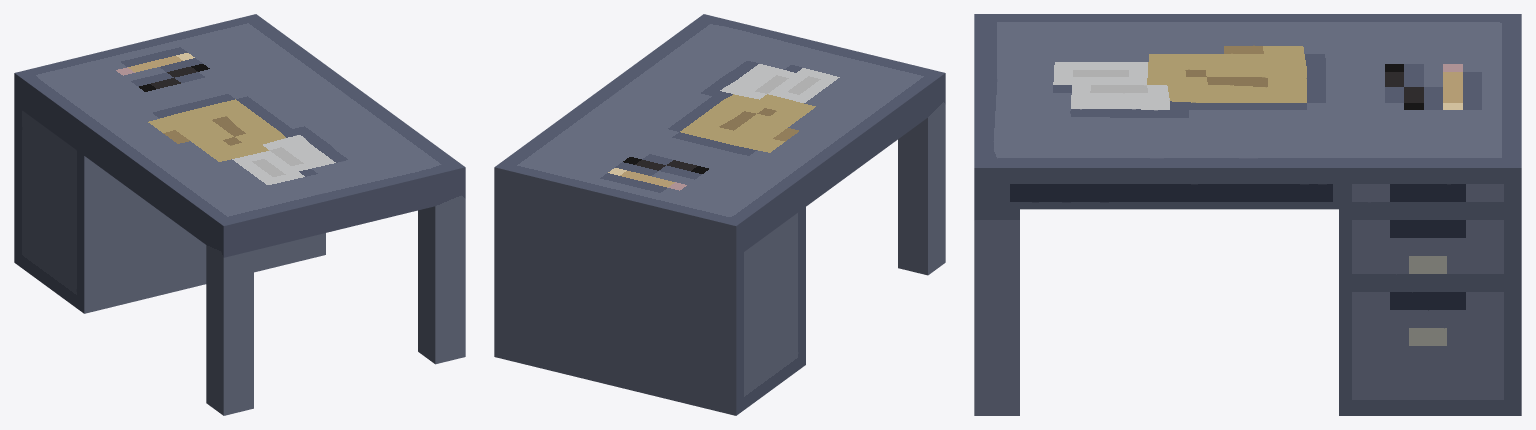
File: vDesk.fbx
The picture shows the model from 3 angles, left to right: view 1: azimuth 30°, elevation 25°; view 2: azimuth 150°, elevation 25°; view 3: azimuth 270°, elevation 25°; orthographic projection. The views are drawn at different scales.
Parts seen in each view (by area): view 1: Desk; view 2: Desk; view 3: Desk.
Boxes of the visible parts, x1,y1,x2,y2 form: Desk: [14, 14, 465, 415]; Desk: [494, 14, 945, 415]; Desk: [974, 14, 1521, 415].
Size of the model in its own units: 200 by 150 by 300.
1 material, 1 textured.
